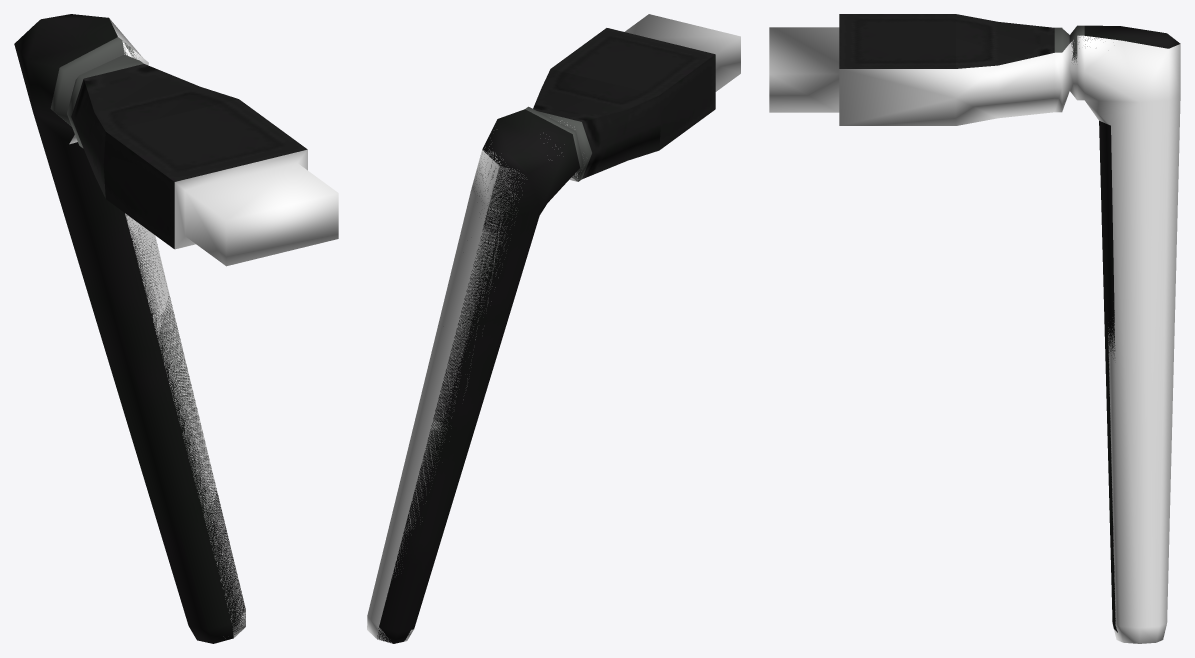
The model's file is blade_pocket_emp_part_antena.glb.
The picture shows the model from 3 angles, left to right: view 1: azimuth 30°, elevation 25°; view 2: azimuth 150°, elevation 25°; view 3: azimuth 270°, elevation 25°; orthographic projection. The views are drawn at different scales.
Parts seen in each view (by area): view 1: g_antena, o_antena; view 2: g_antena, o_antena; view 3: o_antena, g_antena.
Part boxes in pixels (<box>): g_antena: <box>14,14,307,643</box>; o_antena: <box>69,18,338,638</box>; g_antena: <box>377,28,715,643</box>; o_antena: <box>367,14,740,643</box>; o_antena: <box>769,27,1180,643</box>; g_antena: <box>839,14,1180,632</box>.
Bounding box in the file's own units: 0.0486 × 0.1226 × 0.0824.
2 materials, 1 textured.
